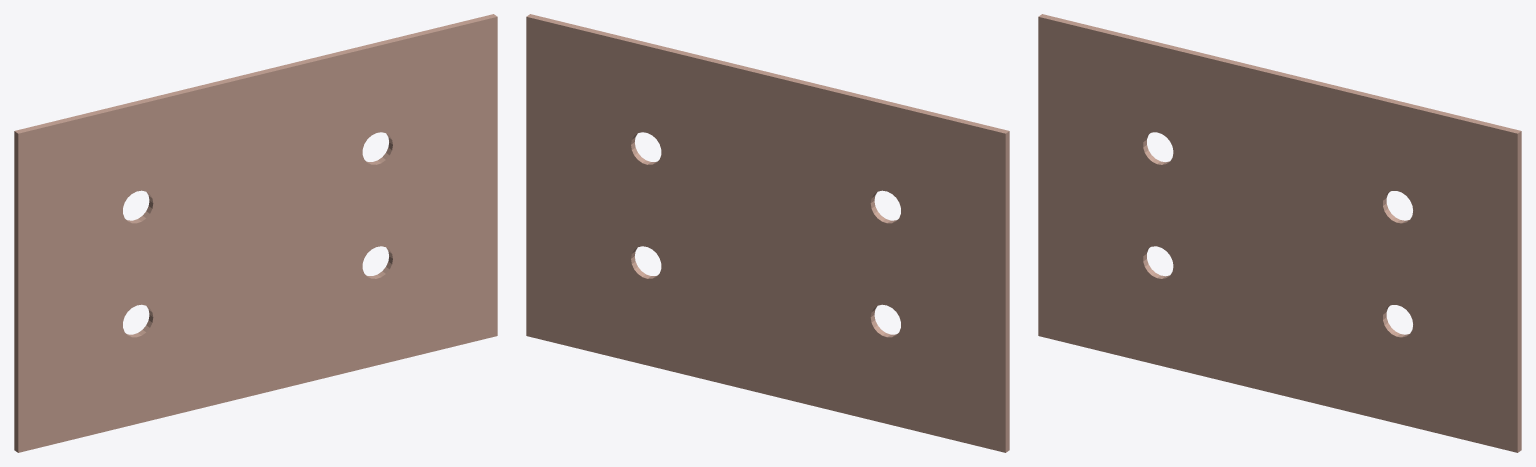
The model's file is synthetic-plate-unfolded.glb.
3 renders of one model, left to right at view 1: azimuth 30°, elevation 25°; view 2: azimuth 150°, elevation 25°; view 3: azimuth 330°, elevation 25°, orthographic.
Parts seen in each view (by area): view 1: world; view 2: world; view 3: world.
Part boxes in pixels (box(x1,y1,x2,y2)): world: box(14, 14, 497, 452); world: box(526, 14, 1009, 452); world: box(1038, 14, 1521, 452).
Size of the model in its own units: 220 by 140 by 3.
